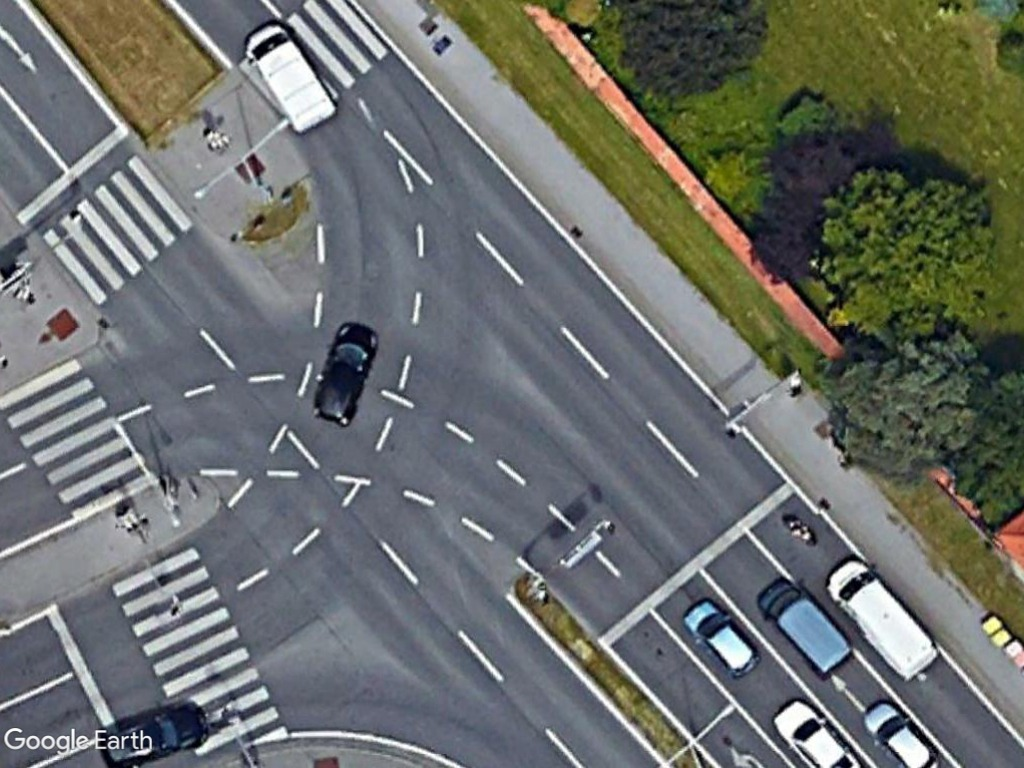car: (94, 692, 213, 768), (308, 313, 379, 433), (680, 594, 761, 681)
van: (826, 551, 948, 686), (235, 18, 340, 141), (756, 569, 854, 681)
